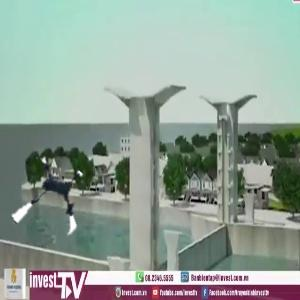drone: (9, 159, 93, 243)
